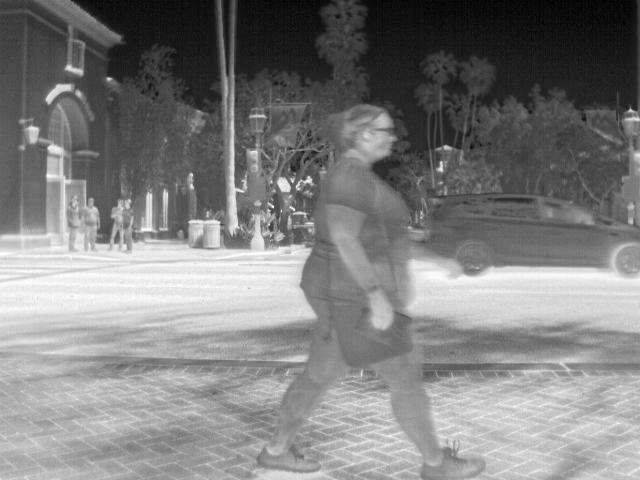car: (428, 190, 640, 280)
person: (256, 100, 485, 478), (80, 194, 102, 252), (66, 192, 82, 252), (107, 196, 123, 250), (120, 199, 134, 251)
